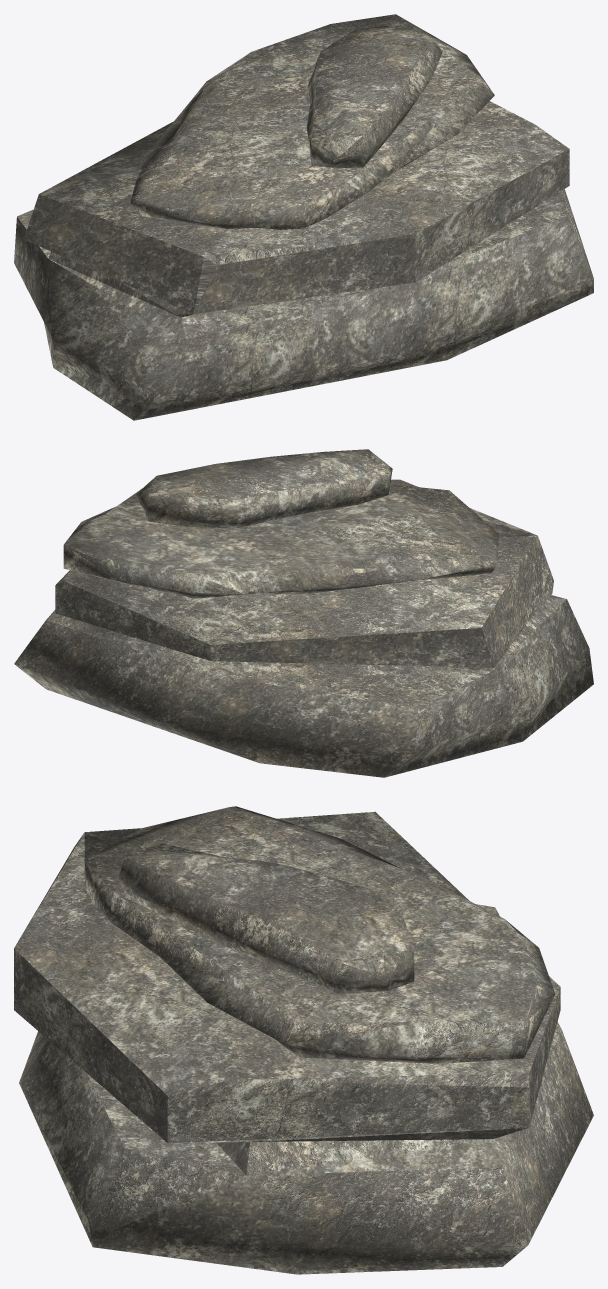
The model's file is Custom_Model_10902e-transformed.glb.
The picture shows the model from 3 angles, top to bottom: view 1: azimuth 30°, elevation 25°; view 2: azimuth 150°, elevation 25°; view 3: azimuth 270°, elevation 25°; orthographic projection. The views are drawn at different scales.
Parts seen in each view (by area): view 1: Untitled_CubeRockOne300, Untitled.001_CubeRockOne200; view 2: Untitled.001_CubeRockOne200, Untitled_CubeRockOne300; view 3: Untitled_CubeRockOne300, Untitled.001_CubeRockOne200.
Boxes of the visible parts, box(x1,y1,x2,y2) form: Untitled_CubeRockOne300: box(44, 14, 593, 420); Untitled.001_CubeRockOne200: box(14, 52, 593, 420); Untitled.001_CubeRockOne200: box(14, 450, 593, 777); Untitled_CubeRockOne300: box(14, 449, 588, 777); Untitled_CubeRockOne300: box(14, 806, 560, 1274); Untitled.001_CubeRockOne200: box(14, 807, 593, 1247).
Size of what is drawn, in the model's own units: 13.51 by 6.08 by 10.77.
1 material, 1 textured.
